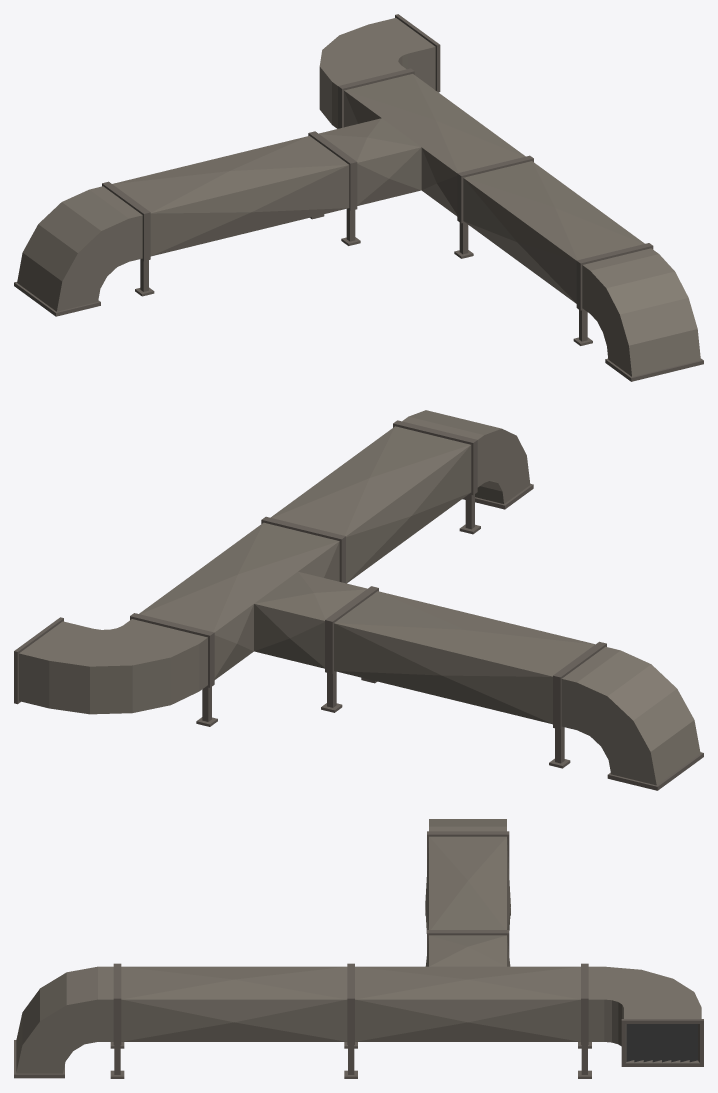
Rendered from SM_Props_Roof_Vent_Set_02.fbx.
3 renders of one model, top to bottom at view 1: azimuth 30°, elevation 25°; view 2: azimuth 150°, elevation 25°; view 3: azimuth 270°, elevation 25°, orthographic. The views are drawn at different scales.
Parts seen in each view (by area): view 1: SM_Props_Roof_Vent_Set_02; view 2: SM_Props_Roof_Vent_Set_02; view 3: SM_Props_Roof_Vent_Set_02.
Part boxes in pixels (box(x1,y1,x2,y2)): SM_Props_Roof_Vent_Set_02: box(14, 14, 703, 381); SM_Props_Roof_Vent_Set_02: box(14, 410, 703, 790); SM_Props_Roof_Vent_Set_02: box(14, 819, 703, 1078).
Bounding box in the file's own units: 703 × 115 × 886.
